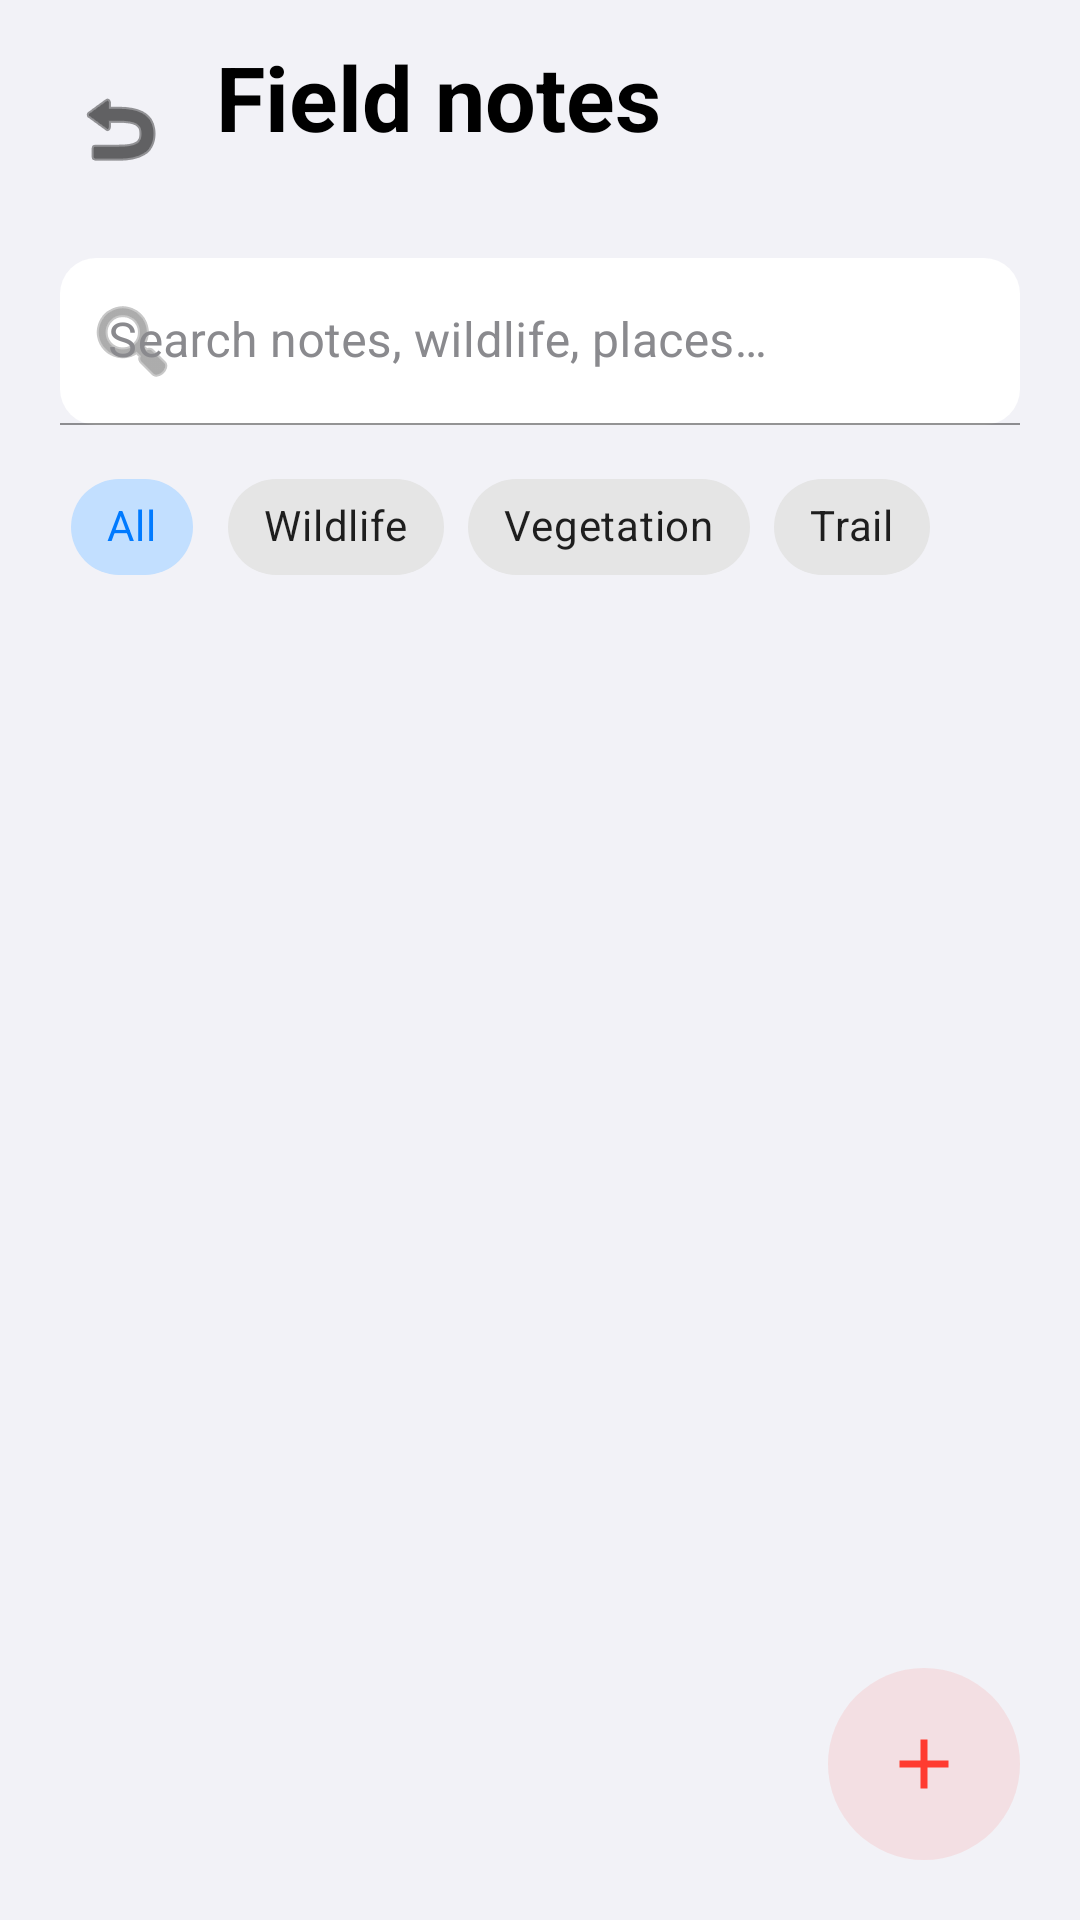

Where icons sit on this 1080 x 1920 app screen, as [x1,y1,x2,y2]:
Add note: [828,1668,1020,1860]
